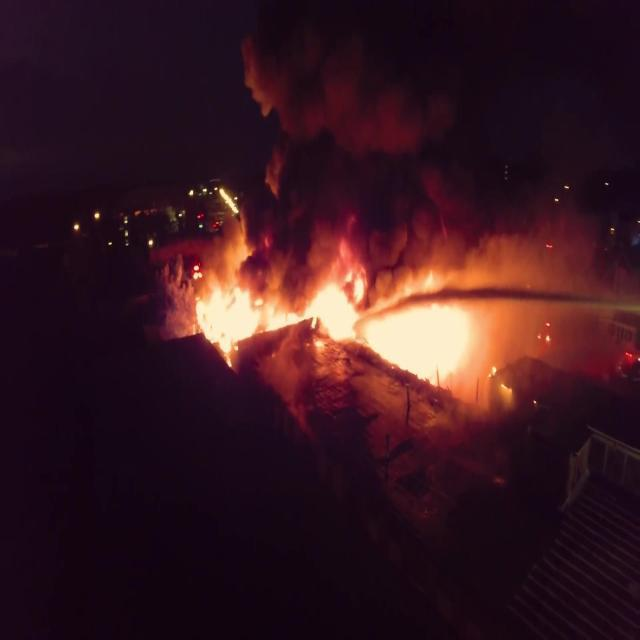Fire: (192, 266, 456, 368)
Smoke: (262, 10, 472, 252)
